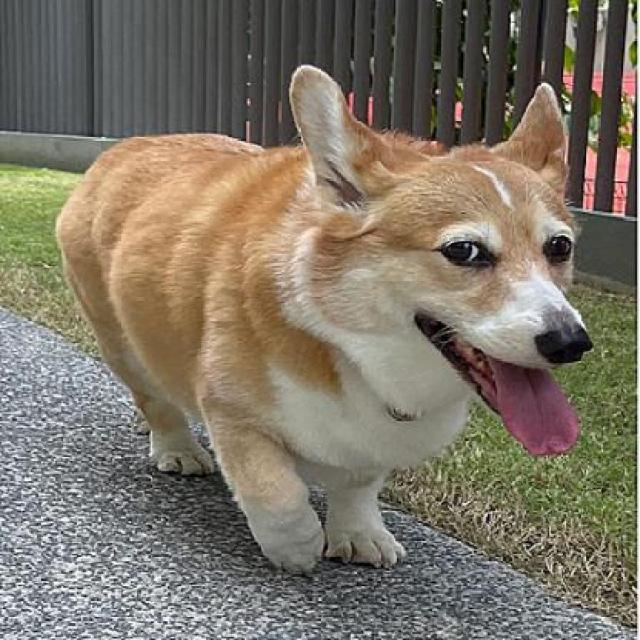Dog: (57, 63, 594, 579)
